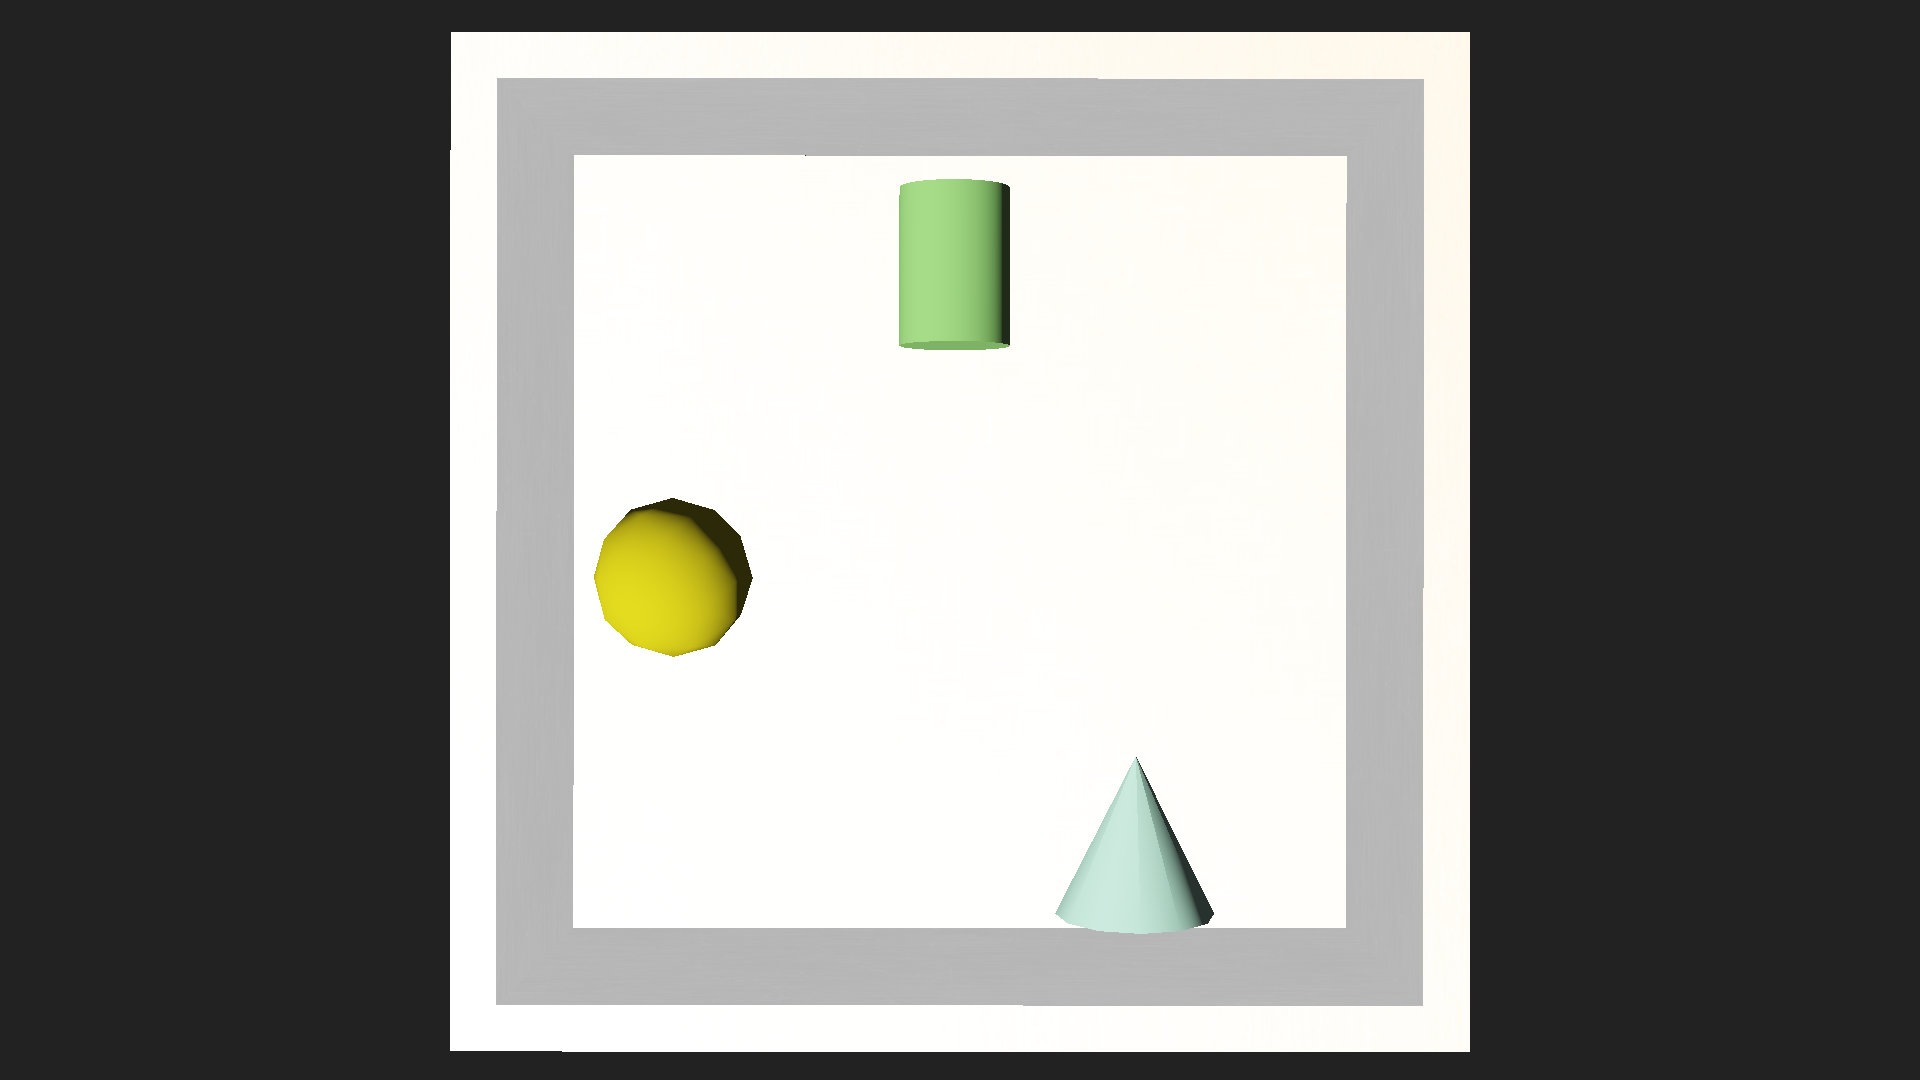cone: (898, 178, 1010, 349)
cylinder: (1059, 741, 1215, 934)
sphere: (592, 497, 752, 657)
